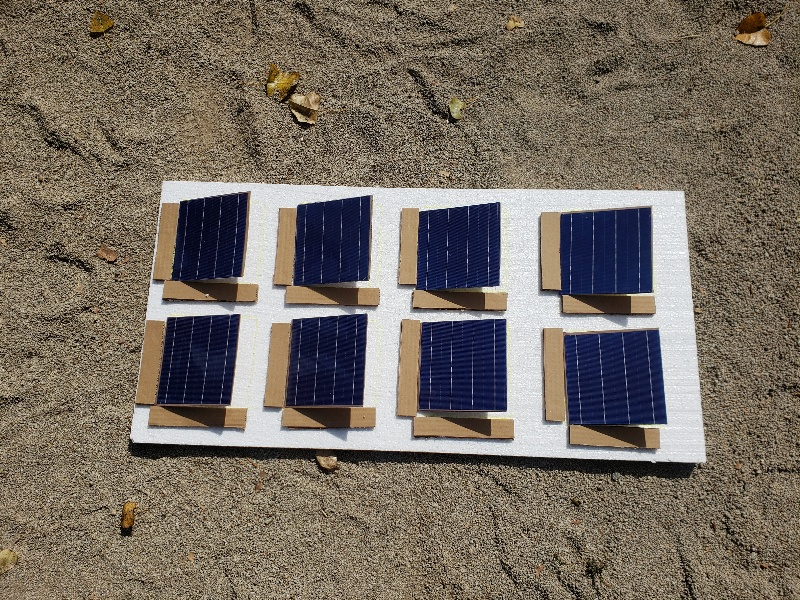clean: (555, 330, 672, 428), (550, 204, 661, 298), (416, 318, 513, 420), (411, 202, 507, 289), (283, 317, 371, 410), (294, 196, 376, 291), (168, 193, 250, 284), (162, 317, 240, 404)
